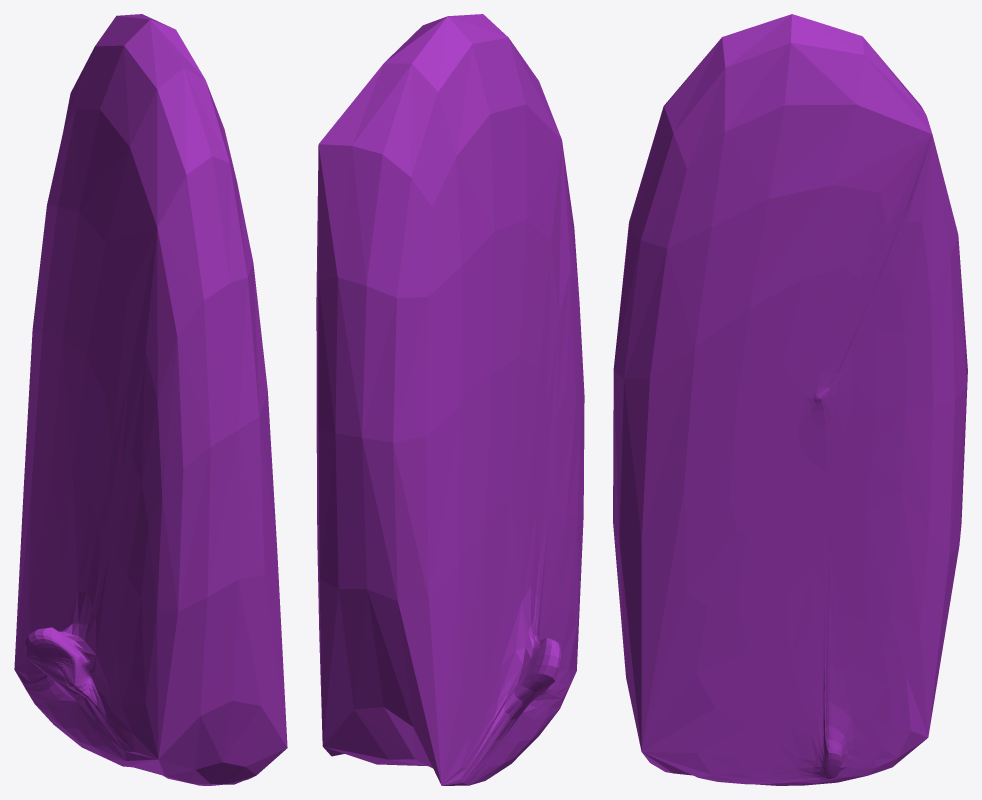
3 renders of one model, left to right at view 1: azimuth 30°, elevation 25°; view 2: azimuth 150°, elevation 25°; view 3: azimuth 270°, elevation 25°, orthographic. The views are drawn at different scales.
Parts seen in each view (by area): view 1: 197_Cube.817; view 2: 197_Cube.817; view 3: 197_Cube.817.
Part boxes in pixels (x1,y1,x2,y2): 197_Cube.817: (14, 14, 287, 785); 197_Cube.817: (316, 14, 584, 785); 197_Cube.817: (613, 14, 967, 785).
Bounding box in the file's own units: 3.1 × 11.06 × 4.77.
